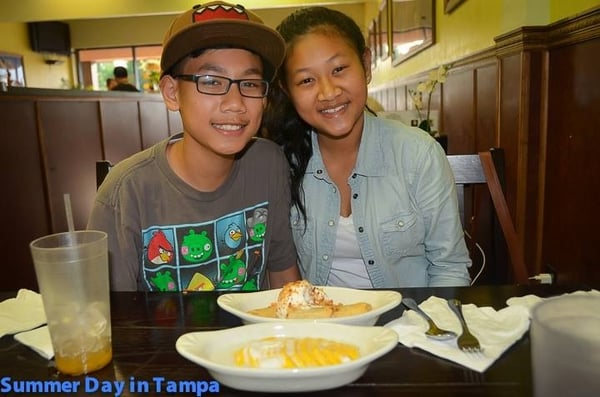pizza: (29, 230, 113, 376)
sushi: (174, 320, 399, 392)
